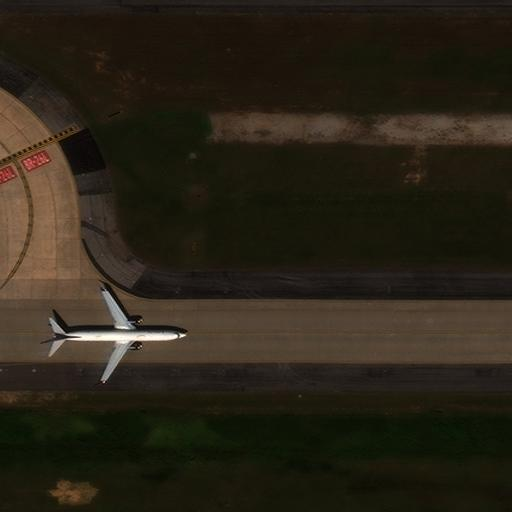Medium Civil Transport: (46, 288, 190, 383)
